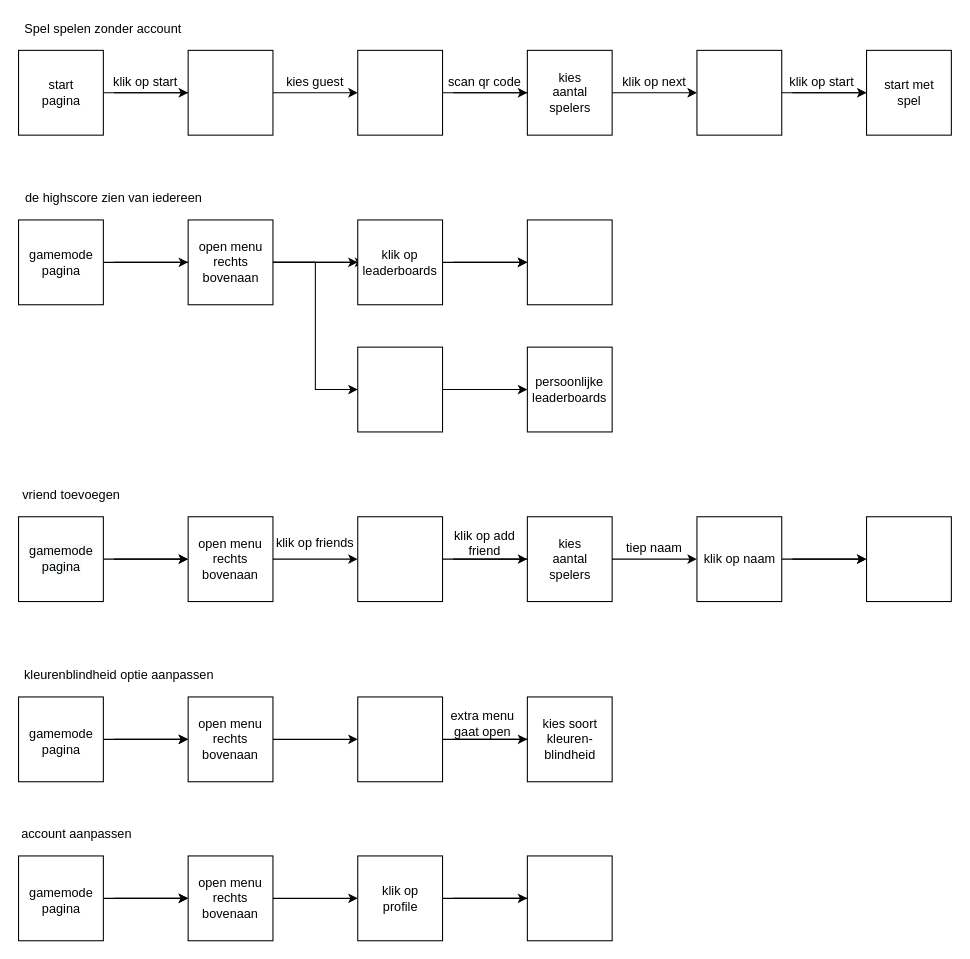
Some shapes in this 970 by 959 pixel diagram are drawn without their labels. The shapes that lost their labels are listed below. From the top down, each one's centre as x and y in pixels, then its label:
(x=230, y=92): guest of login
(x=400, y=92): qr pagina
(x=739, y=92): kies de gamemode
(x=569, y=262): leaderboards pagina
(x=400, y=389): klik op persoonlijke highscore
(x=400, y=559): pagina vrienden
(x=908, y=559): vriendschaps- verzoek doorgestuurd
(x=400, y=739): klik op "color blindness"
(x=569, y=898): klik op naam om naam aan te passen
